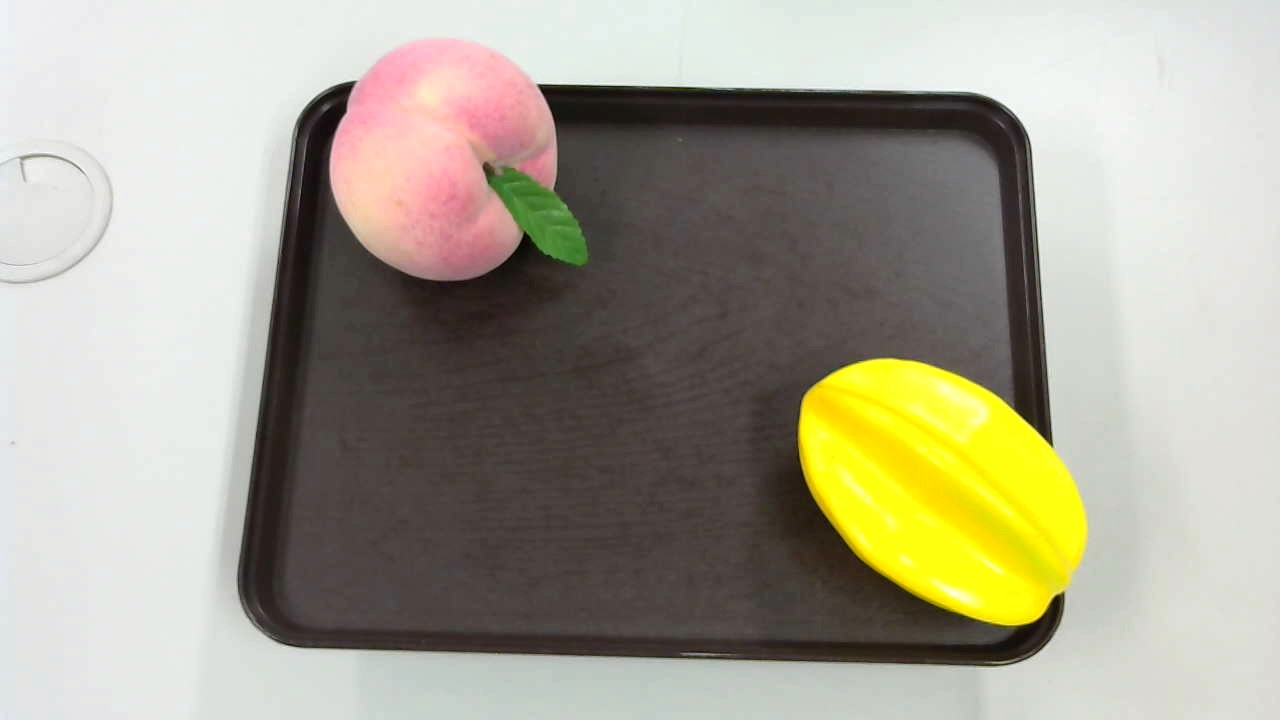peach: (326, 37, 591, 288)
star fruit: (795, 356, 1089, 627)
